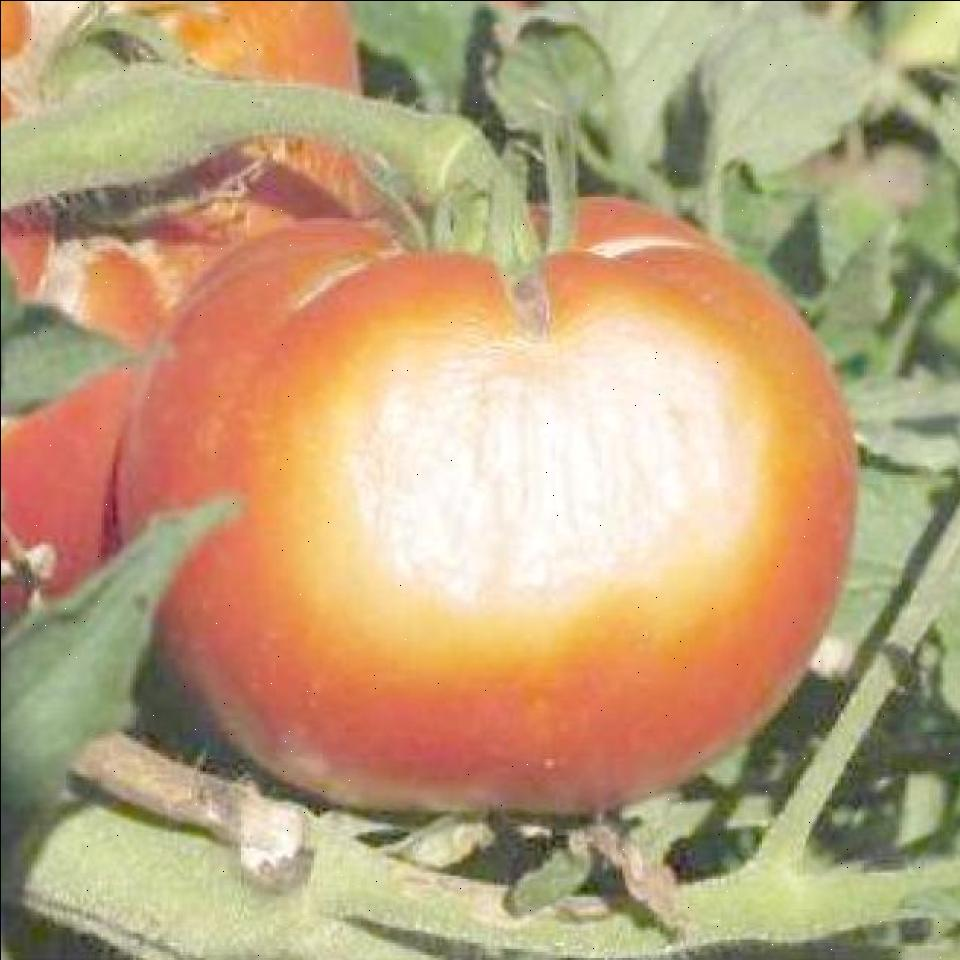Sunscald: (316, 256, 796, 648)
